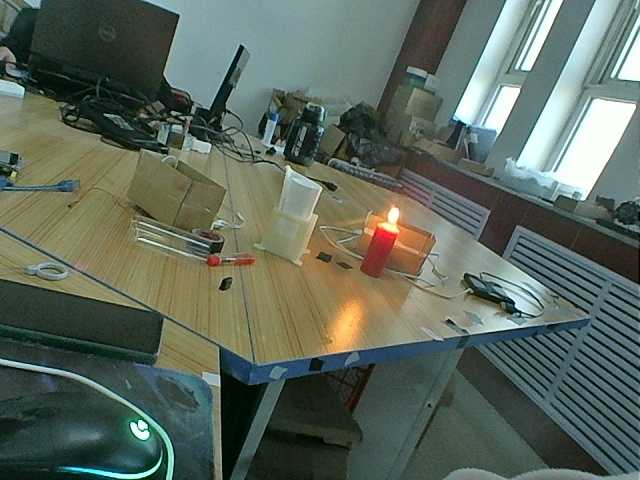candle: (360, 219, 400, 282)
fire: (382, 202, 408, 229)
